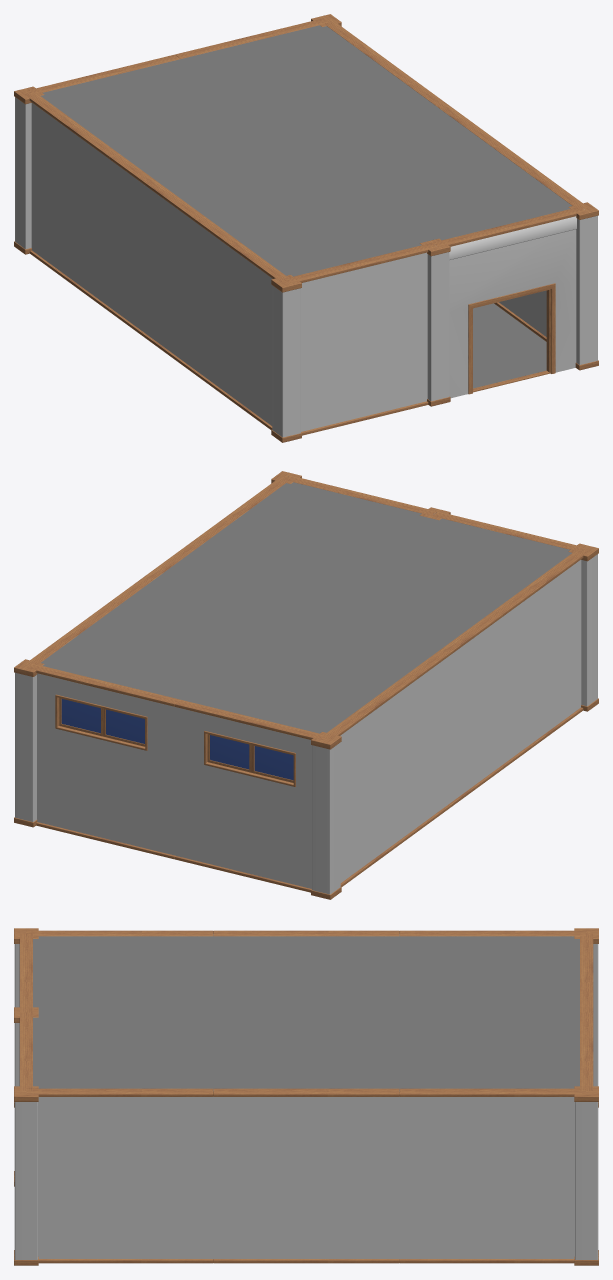
The model's file is SM_bathroom_01.fbx.
The picture shows the model from 3 angles, top to bottom: view 1: azimuth 30°, elevation 25°; view 2: azimuth 150°, elevation 25°; view 3: azimuth 270°, elevation 25°; orthographic projection. The views are drawn at different scales.
Parts seen in each view (by area): view 1: bathroom; view 2: bathroom; view 3: bathroom.
Part boxes in pixels (x1=…): bathroom: x1=14, y1=14, x2=598, y2=442; bathroom: x1=14, y1=471, x2=598, y2=899; bathroom: x1=14, y1=928, x2=598, y2=1265.
Size of the model in its own units: 336 by 158 by 493.
